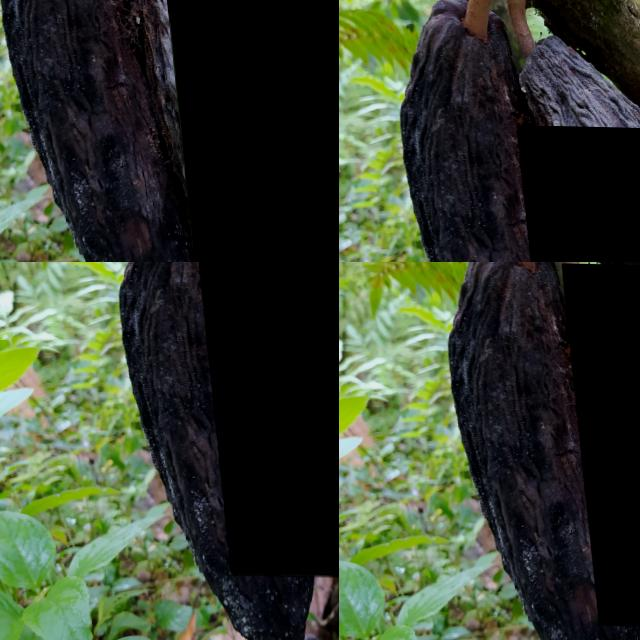Fitoftora: (431, 262, 639, 640), (157, 0, 339, 262), (558, 262, 640, 626), (511, 123, 640, 262)
Monilia: (190, 262, 339, 578), (257, 501, 339, 640)
